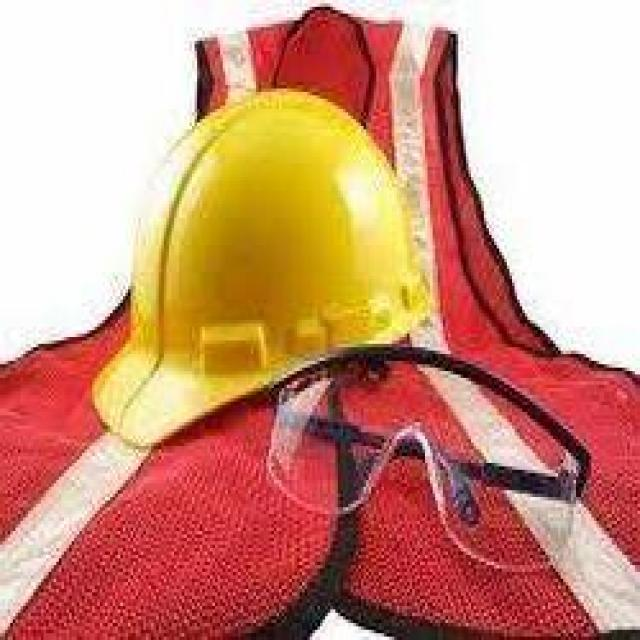Safety-Helmet: (95, 81, 499, 452)
